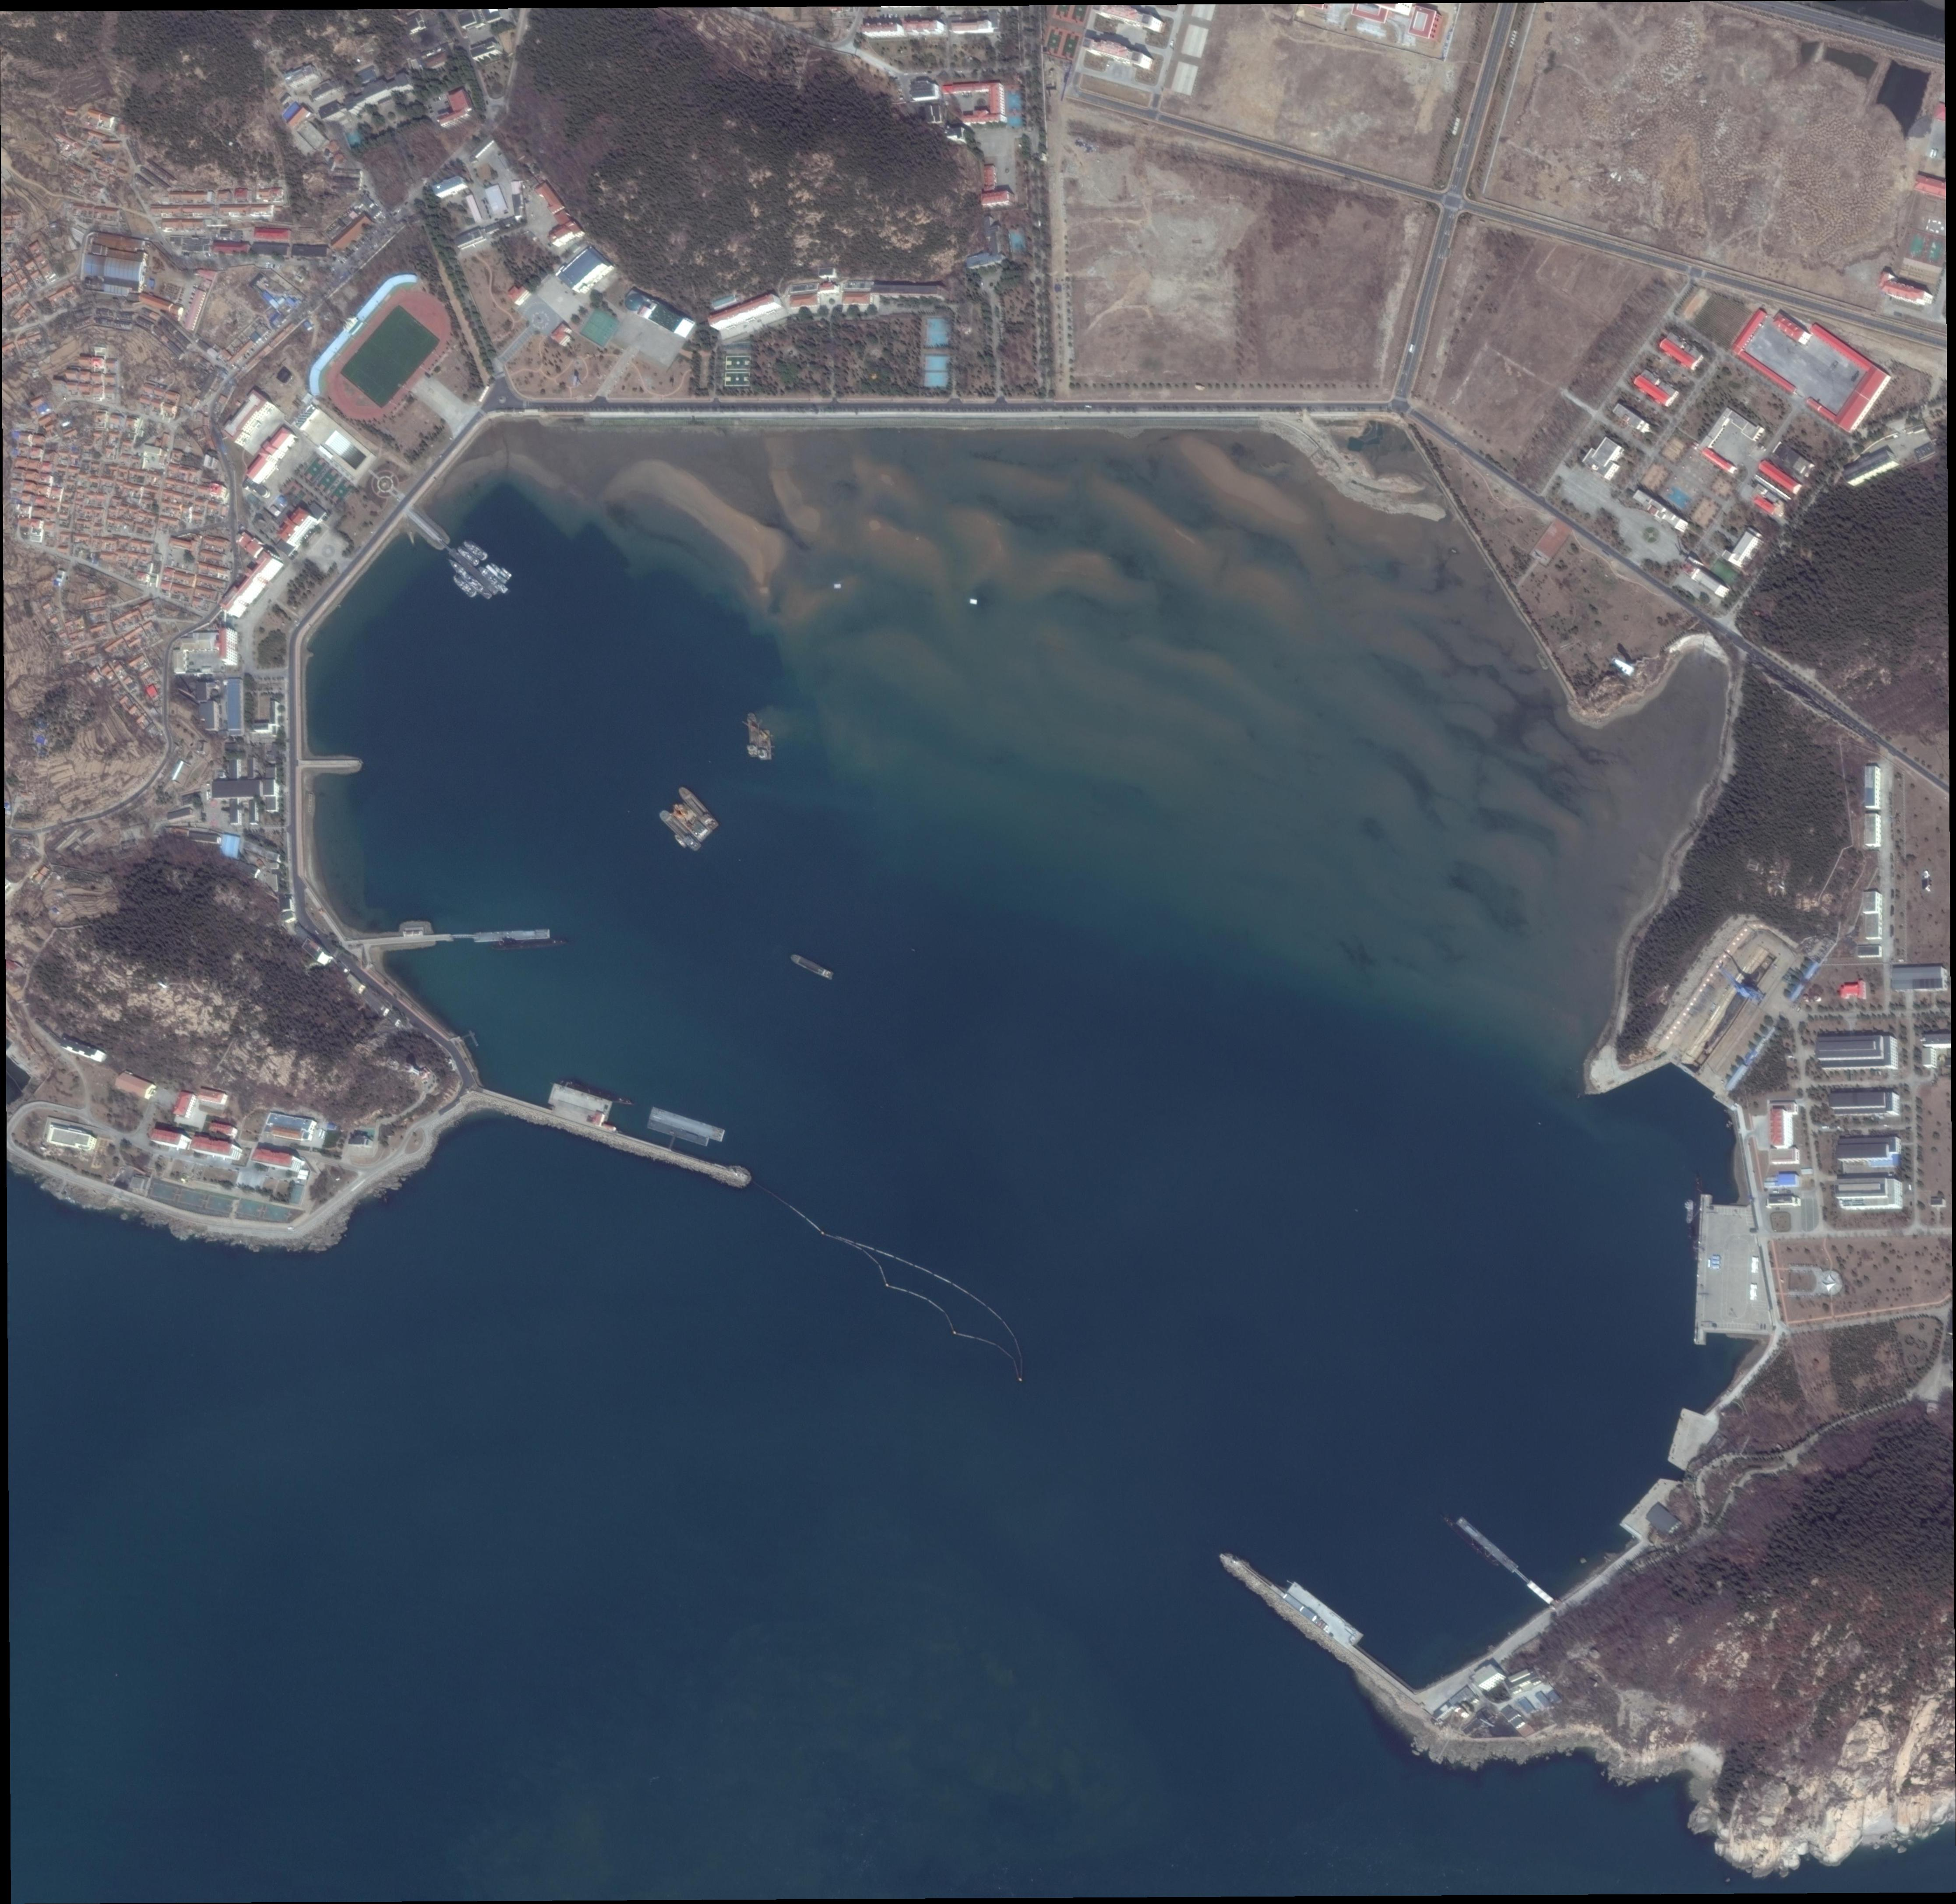harbor: (473, 1086, 749, 1184), (1456, 1516, 1519, 1573), (448, 548, 499, 596), (473, 929, 550, 942), (303, 760, 359, 769)
ship: (1438, 1511, 1501, 1570), (557, 1076, 633, 1108), (668, 797, 712, 843), (677, 785, 720, 831), (658, 808, 703, 853), (447, 557, 493, 600), (789, 952, 835, 981), (1691, 1176, 1702, 1261), (492, 938, 567, 952), (477, 565, 508, 595), (451, 572, 479, 599), (462, 538, 489, 563), (456, 544, 481, 568), (747, 713, 759, 758), (486, 564, 508, 585), (758, 730, 772, 762), (490, 562, 511, 581), (1685, 1199, 1694, 1224)
